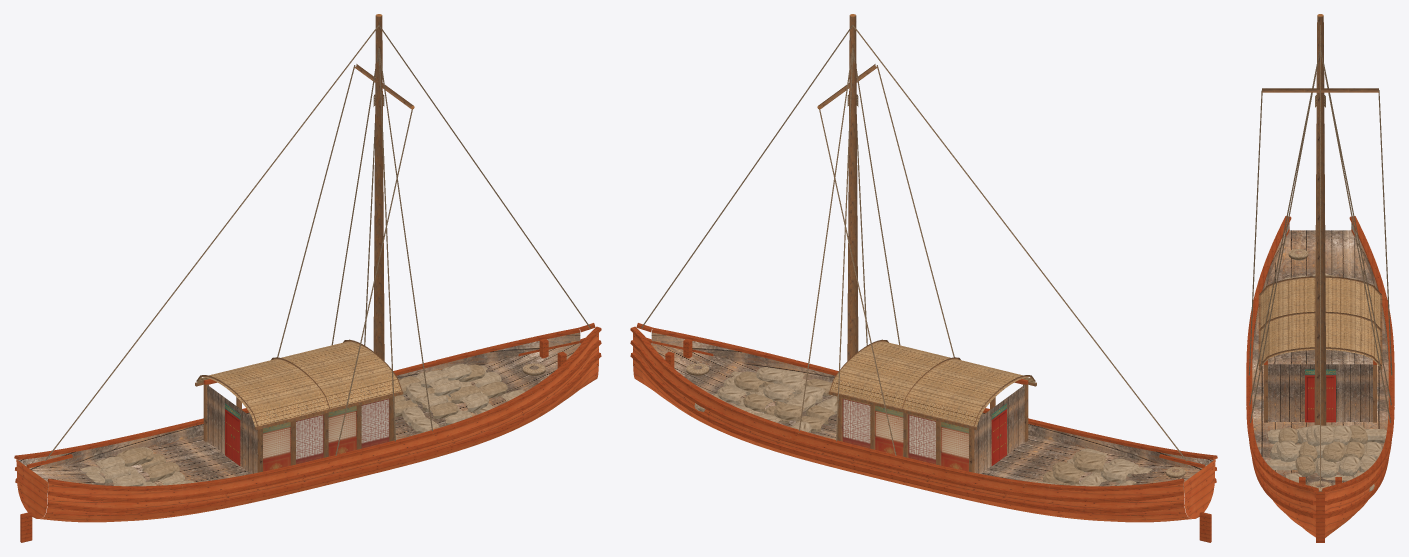
File: qm_cargo.glb
3 renders of one model, left to right at view 1: azimuth 30°, elevation 25°; view 2: azimuth 150°, elevation 25°; view 3: azimuth 270°, elevation 25°, orthographic.
Parts seen in each view (by area): view 1: wale, hull, deck, mat, pole, rope, sack, sack2, bay_b, bay_a, wall, door; view 2: wale, hull, deck, mat, pole, rope, sack, sack2, bay_b, bay_a, wall, door; view 3: deck, mat, wale, pole, wall, rope, sack, hull, sack2, door.
Part boxes in pixels (bbox=[...]): wale: bbox=[14, 323, 601, 542]; hull: bbox=[16, 333, 598, 522]; deck: bbox=[17, 332, 581, 492]; mat: bbox=[196, 341, 401, 426]; pole: bbox=[195, 15, 413, 472]; rope: bbox=[42, 25, 590, 465]; sack: bbox=[80, 364, 525, 486]; sack2: bbox=[116, 364, 507, 481]; bay_b: bbox=[296, 398, 389, 464]; bay_a: bbox=[263, 406, 356, 471]; wall: bbox=[207, 385, 257, 473]; door: bbox=[225, 403, 240, 465]; wale: bbox=[630, 323, 1217, 542]; hull: bbox=[633, 333, 1215, 522]; deck: bbox=[650, 332, 1214, 492]; mat: bbox=[830, 341, 1035, 426]; pole: bbox=[818, 15, 1036, 472]; rope: bbox=[641, 25, 1189, 478]; sack: bbox=[694, 367, 1152, 486]; sack2: bbox=[734, 371, 1106, 485]; bay_b: bbox=[842, 398, 935, 464]; bay_a: bbox=[875, 406, 968, 471]; wall: bbox=[974, 385, 1024, 473]; door: bbox=[991, 403, 1006, 465]; deck: bbox=[1252, 223, 1388, 487]; mat: bbox=[1260, 278, 1380, 365]; wale: bbox=[1246, 216, 1394, 542]; pole: bbox=[1258, 16, 1382, 425]; wall: bbox=[1268, 364, 1372, 421]; rope: bbox=[1248, 25, 1392, 491]; sack: bbox=[1266, 273, 1386, 491]; hull: bbox=[1258, 463, 1382, 537]; sack2: bbox=[1278, 275, 1367, 475]; door: bbox=[1305, 369, 1335, 422].
Size of the model in its own units: 18.41 by 13.4 by 4.06.
Materials: 13 (13 with a texture image).
